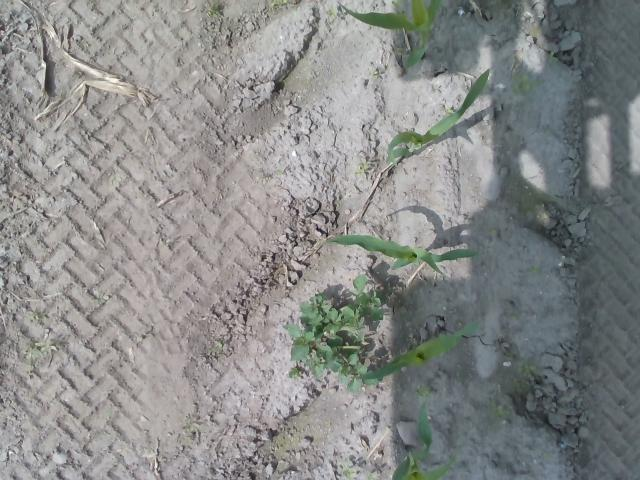Maize: (386, 68, 491, 164), (337, 0, 442, 72), (361, 320, 478, 381), (317, 232, 478, 276), (390, 398, 457, 480)
Weeds: (286, 273, 388, 390), (513, 361, 537, 389), (26, 340, 56, 360), (512, 73, 536, 95), (493, 402, 515, 418), (355, 160, 369, 176), (414, 384, 430, 398), (340, 464, 354, 478), (482, 227, 498, 237), (96, 293, 110, 304), (506, 309, 518, 321), (270, 0, 288, 7), (526, 265, 540, 274), (548, 51, 558, 63), (207, 8, 219, 16), (325, 8, 337, 15), (372, 71, 380, 81), (28, 314, 40, 320)
